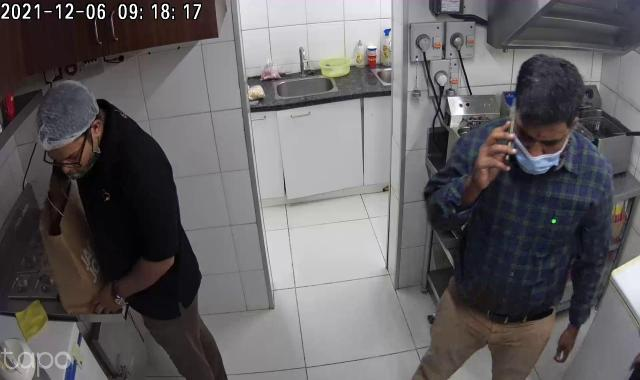hairnet: (35, 80, 100, 150)
no_hairnet: (508, 44, 590, 147)
